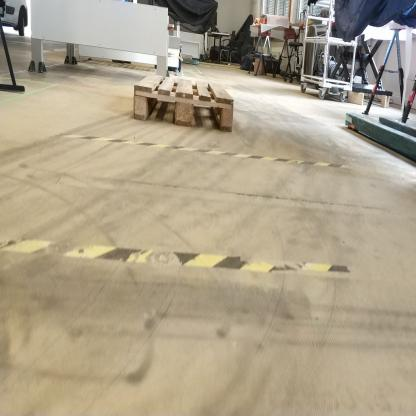BoxFace: (129, 68, 240, 134)
